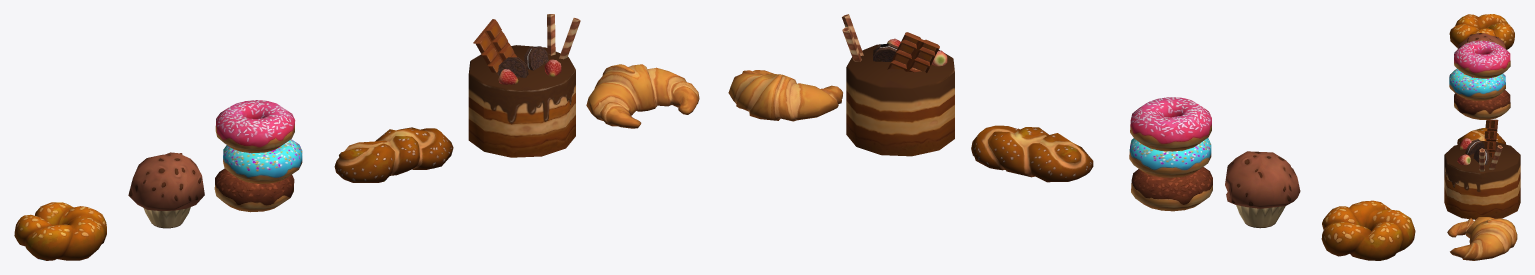
Rendered from Bakery_Items (2).fbx.
The picture shows the model from 3 angles, left to right: view 1: azimuth 30°, elevation 25°; view 2: azimuth 150°, elevation 25°; view 3: azimuth 270°, elevation 25°; orthographic projection. The views are drawn at different scales.
Visible parts, largest first — view 1: Circle, Donuts, Croissant, Pretzel_Bread, Tarts, cap_Cake; view 2: Circle, Donuts, Pretzel_Bread, Tarts, cap_Cake, Croissant; view 3: Circle, Donuts, Croissant, Tarts, cap_Cake, Pretzel_Bread.
Part boxes in pixels (x1,y1,x2,y2): Circle: [468, 14, 580, 157]; Donuts: [214, 100, 302, 212]; Croissant: [586, 64, 699, 128]; Pretzel_Bread: [334, 127, 453, 182]; Tarts: [14, 202, 106, 260]; cap_Cake: [128, 152, 204, 228]; Circle: [842, 14, 954, 156]; Donuts: [1129, 97, 1212, 211]; Pretzel_Bread: [971, 125, 1093, 182]; Tarts: [1321, 200, 1415, 260]; cap_Cake: [1225, 151, 1300, 228]; Croissant: [728, 70, 842, 121]; Circle: [1444, 119, 1520, 219]; Donuts: [1449, 40, 1510, 119]; Croissant: [1447, 217, 1517, 260]; Tarts: [1449, 14, 1514, 49]; cap_Cake: [1457, 33, 1505, 48]; Pretzel_Bread: [1457, 127, 1505, 144].
Bounding box in the file's own units: 1.5 × 0.2428 × 0.211.
Materials: 1 (1 with a texture image).
